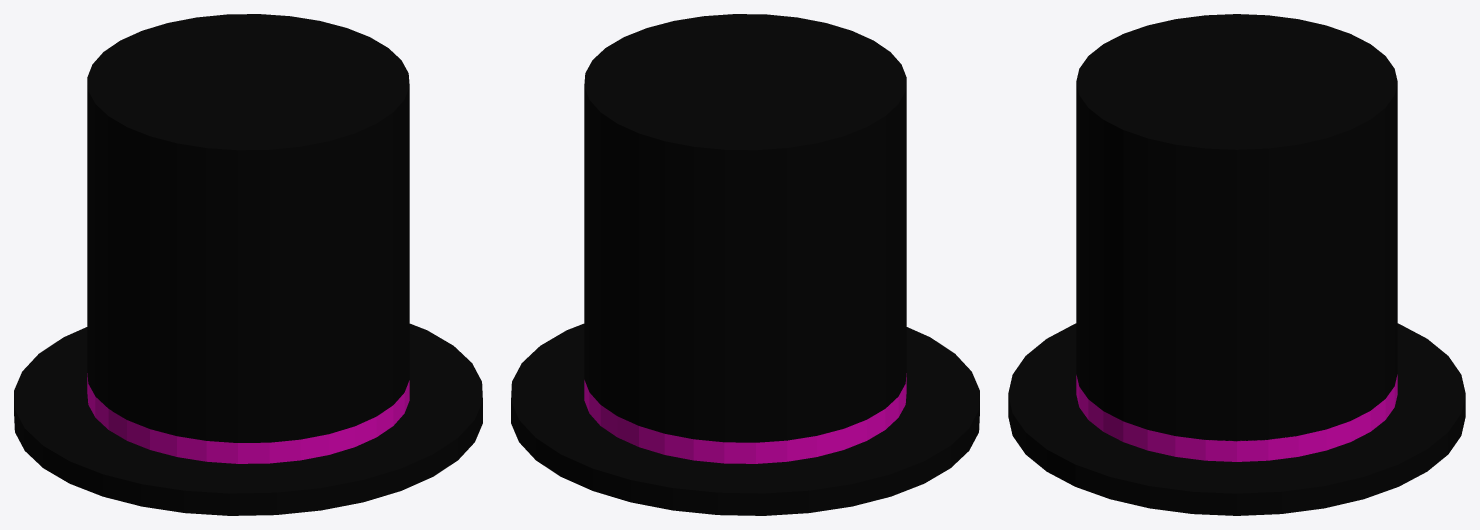
File: Magican Hat.fbx
3 renders of one model, left to right at view 1: azimuth 30°, elevation 25°; view 2: azimuth 150°, elevation 25°; view 3: azimuth 270°, elevation 25°, orthographic.
Parts seen in each view (by area): view 1: Cylinder, Cylinder.002, Cylinder.001; view 2: Cylinder, Cylinder.002, Cylinder.001; view 3: Cylinder, Cylinder.002, Cylinder.001.
Boxes of the visible parts, x1,y1,x2,y2 form: Cylinder: (87,14,409,442); Cylinder.002: (14,323,482,515); Cylinder.001: (87,373,409,463); Cylinder: (584,14,906,442); Cylinder.002: (511,323,979,515); Cylinder.001: (584,373,906,463); Cylinder: (1076,14,1397,441); Cylinder.002: (1008,323,1465,515); Cylinder.001: (1076,374,1397,461).
Bounding box in the file's own units: 293 × 230 × 285.
